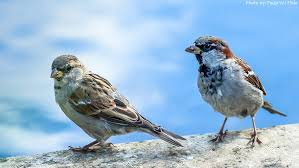hsparrow: (43, 53, 187, 155), (184, 31, 289, 151)
